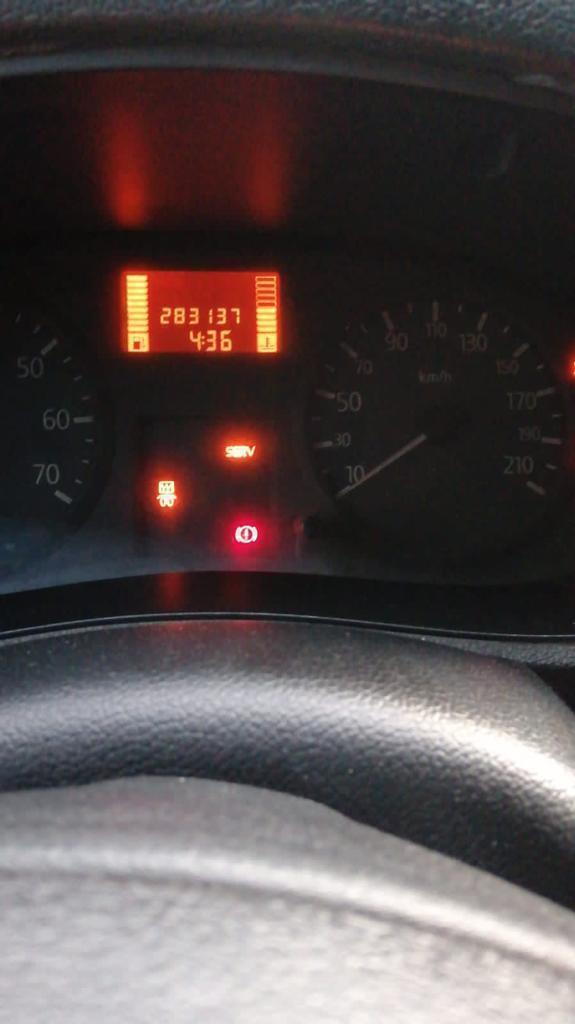1: (207, 306, 214, 325)
2: (159, 306, 171, 325)
3: (206, 329, 217, 351), (188, 306, 199, 324), (216, 307, 226, 324)
4: (188, 330, 201, 351)
6: (219, 329, 232, 352)
7: (230, 307, 240, 325)
8: (174, 306, 185, 325)
X: (201, 334, 205, 346)
odometer: (118, 268, 286, 355)
